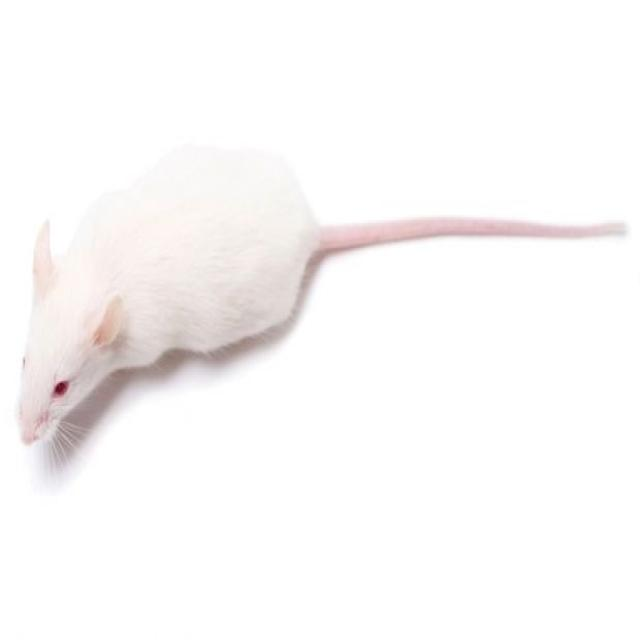rodents: (7, 124, 329, 488)
